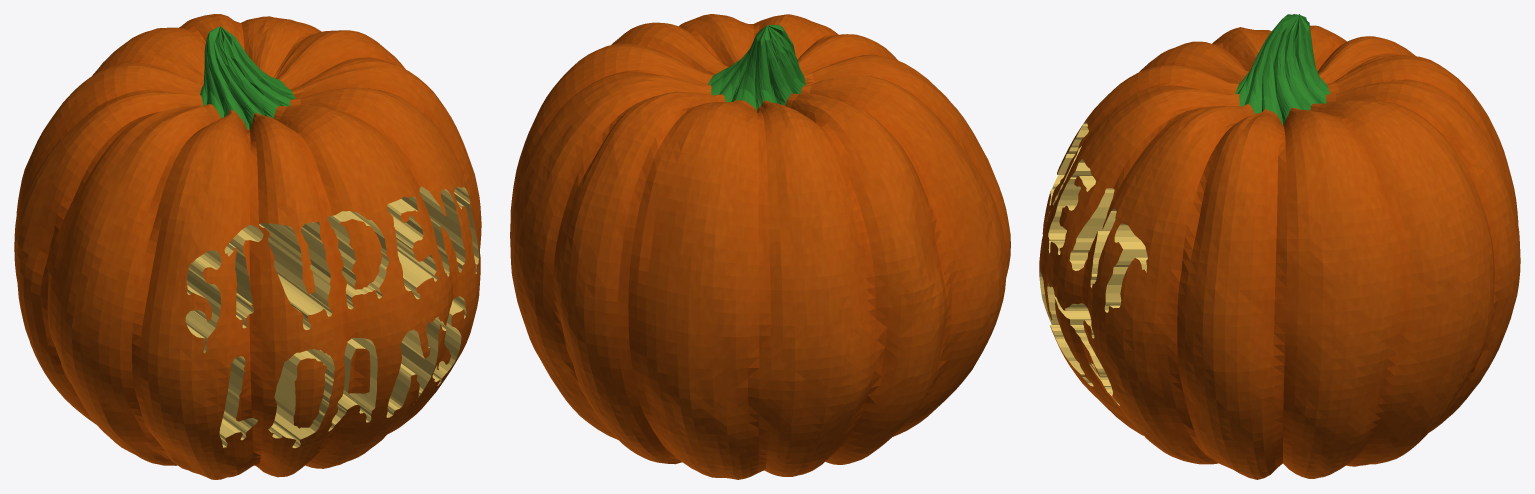
The model's file is sunkissed-sparkle-room_loans.glb.
3 renders of one model, left to right at view 1: azimuth 30°, elevation 25°; view 2: azimuth 150°, elevation 25°; view 3: azimuth 270°, elevation 25°, orthographic. The views are drawn at different scales.
Visible parts, largest first — view 1: Object_4, Object_2, Object_5; view 2: Object_4, Object_5; view 3: Object_4, Object_2, Object_5.
Boxes of the visible parts, <box> form: Object_4: <box>14,14,481,479</box>; Object_2: <box>185,186,478,448</box>; Object_5: <box>200,26,295,130</box>; Object_4: <box>510,14,1010,479</box>; Object_5: <box>707,24,805,110</box>; Object_4: <box>1039,25,1520,479</box>; Object_2: <box>1039,121,1147,405</box>; Object_5: <box>1235,14,1330,125</box>.
Size of the model in its own units: 1.05 by 0.9927 by 1.06.
4 materials, 1 textured.
